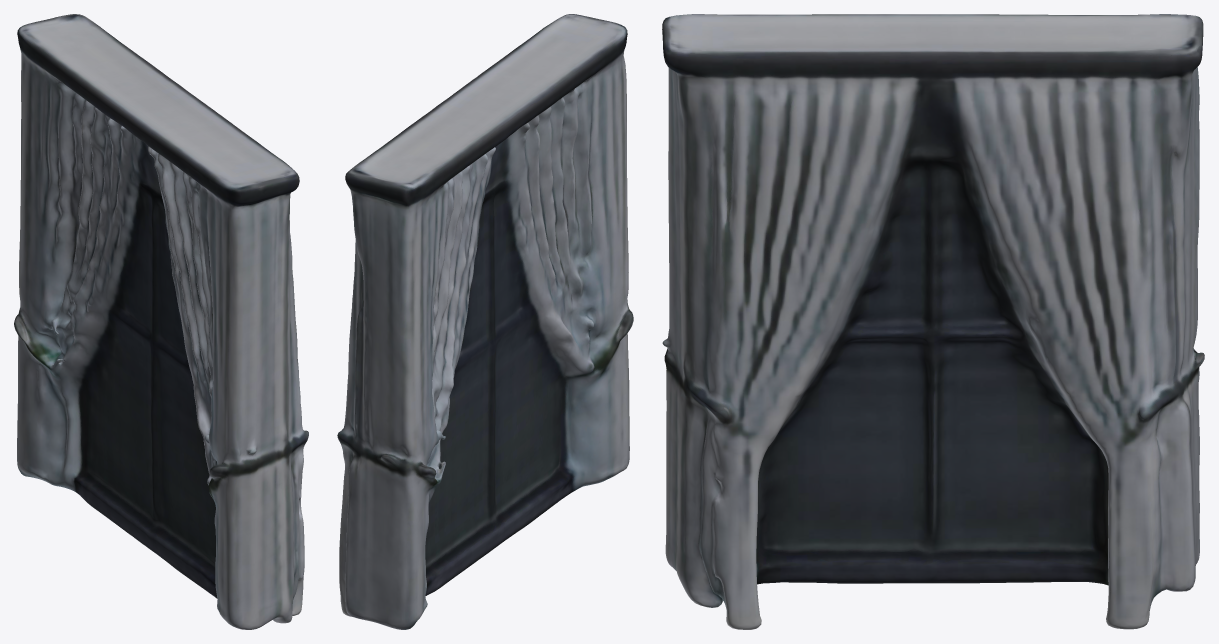
The model's file is 6647170446a1_window_with_curtain.fbx.
The picture shows the model from 3 angles, left to right: view 1: azimuth 30°, elevation 25°; view 2: azimuth 150°, elevation 25°; view 3: azimuth 270°, elevation 25°; orthographic projection. The views are drawn at different scales.
Parts seen in each view (by area): view 1: high_poly; view 2: high_poly; view 3: high_poly.
Part boxes in pixels (box(x1,y1,x2,y2)): high_poly: box(14, 14, 308, 629); high_poly: box(337, 14, 633, 629); high_poly: box(662, 14, 1204, 629).
Size of the model in its own units: 24.48 by 100 by 86.99.
